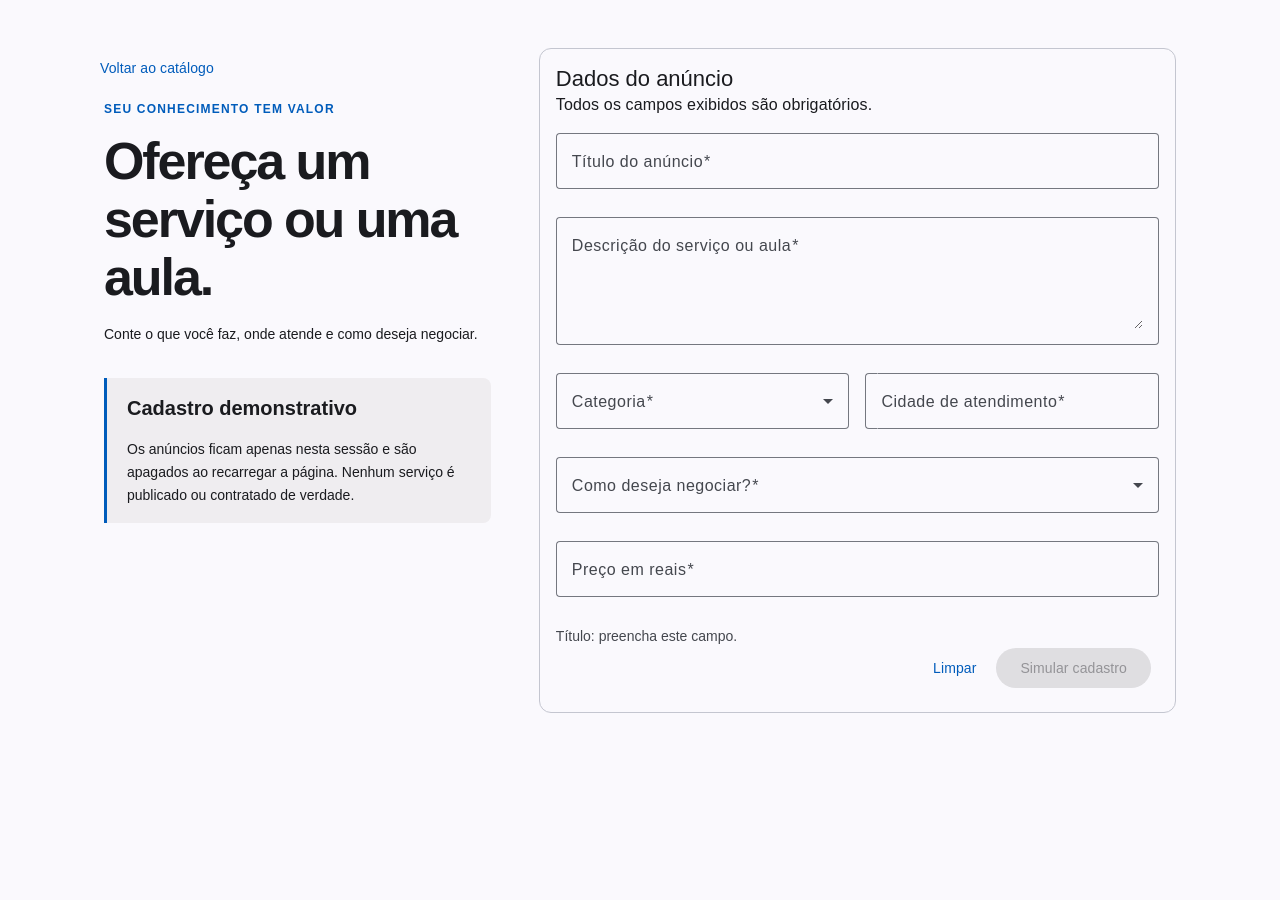
Test: CadastroAnuncioComponent › vincula campos, cria a simulação e limpa campos e mensagem
Type "Aulas de violão" into the field named "titulo" at (857, 161), box [572, 149, 1143, 173]
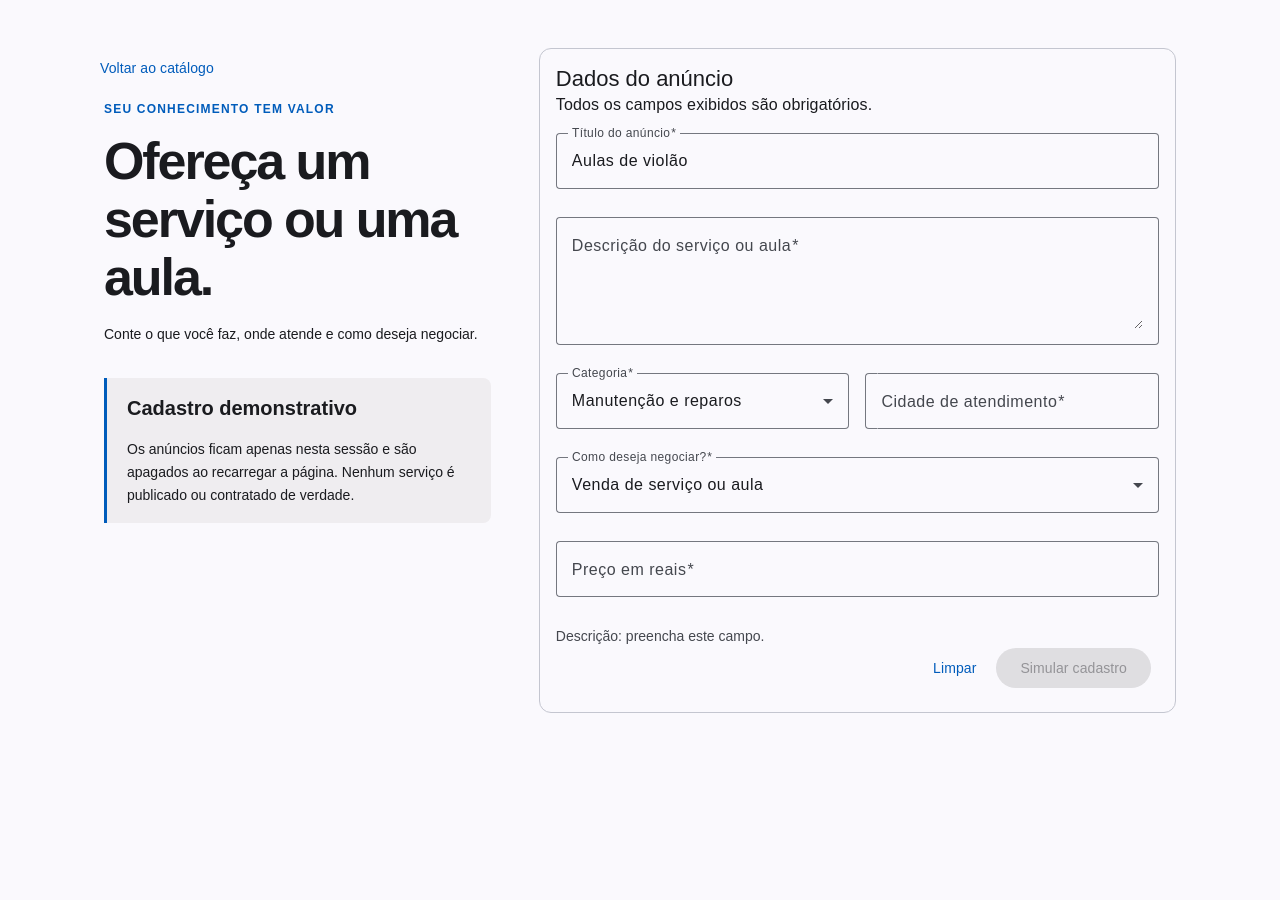
Type "Aulas para quem quer começar a tocar." into the text box labelled "Descrição do serviço ou aula" at (857, 281), box [572, 233, 1143, 329]
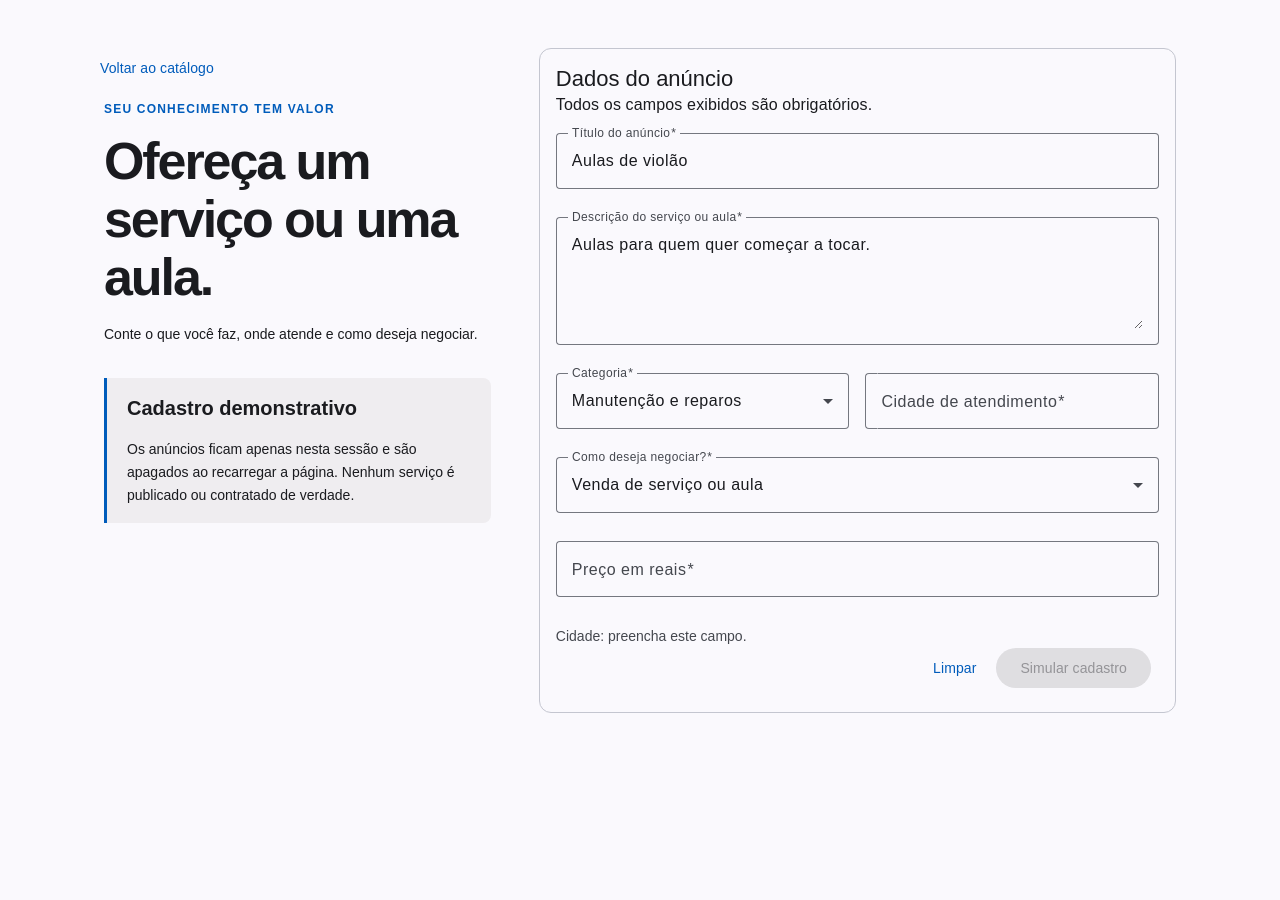
Type "Florianópolis" into the field labelled "Cidade de atendimento" at (1012, 401), box [881, 389, 1143, 413]
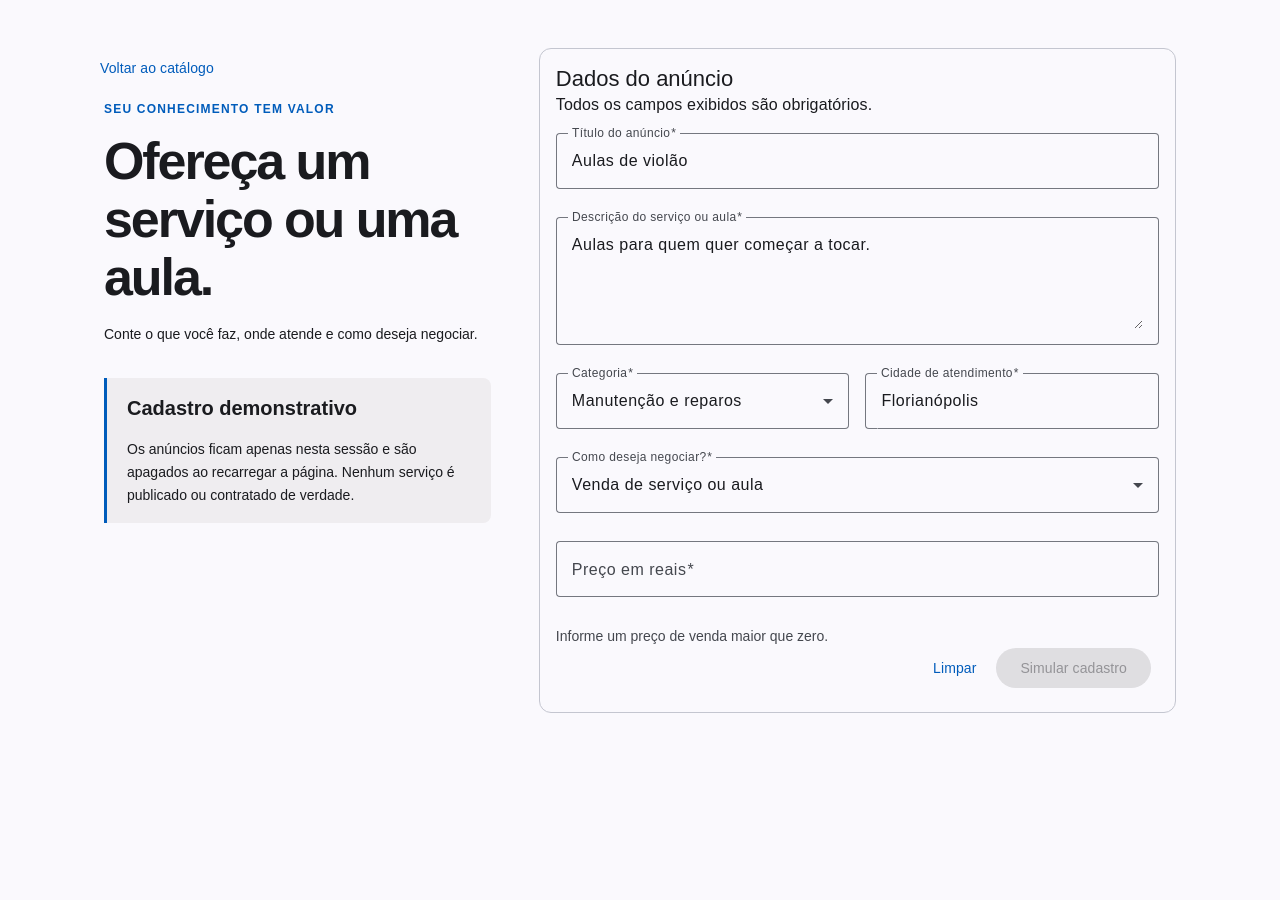
Type "90" into the number field labelled "Preço em reais" at (857, 569), box [572, 557, 1143, 581]
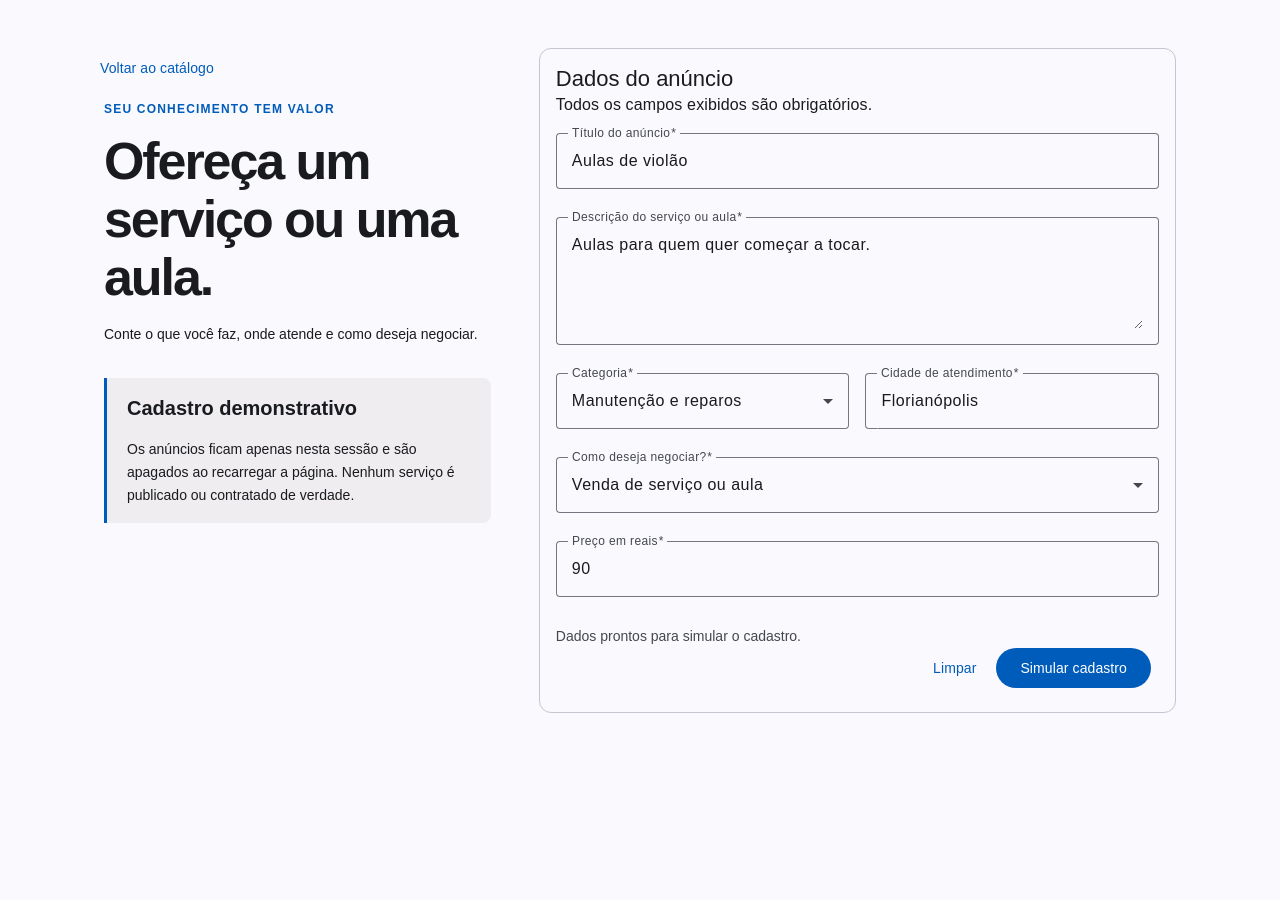
Now the submit button is enabled
Click the submit button at (1074, 668), box [996, 648, 1151, 688]
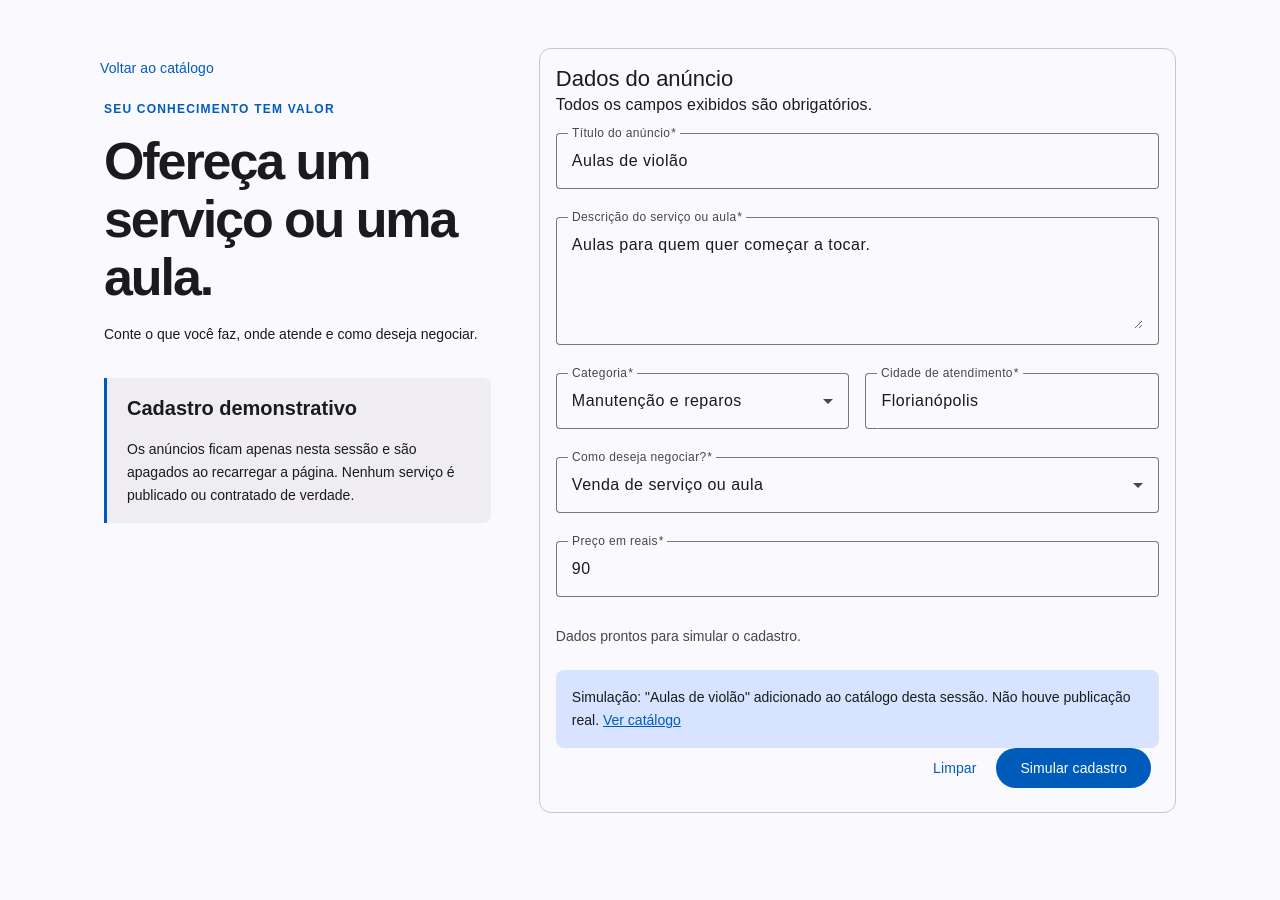
Now the message shows "Simulação", box [572, 689, 1130, 728]
Click the button with test id "limpar" at (955, 768), box [921, 748, 988, 788]
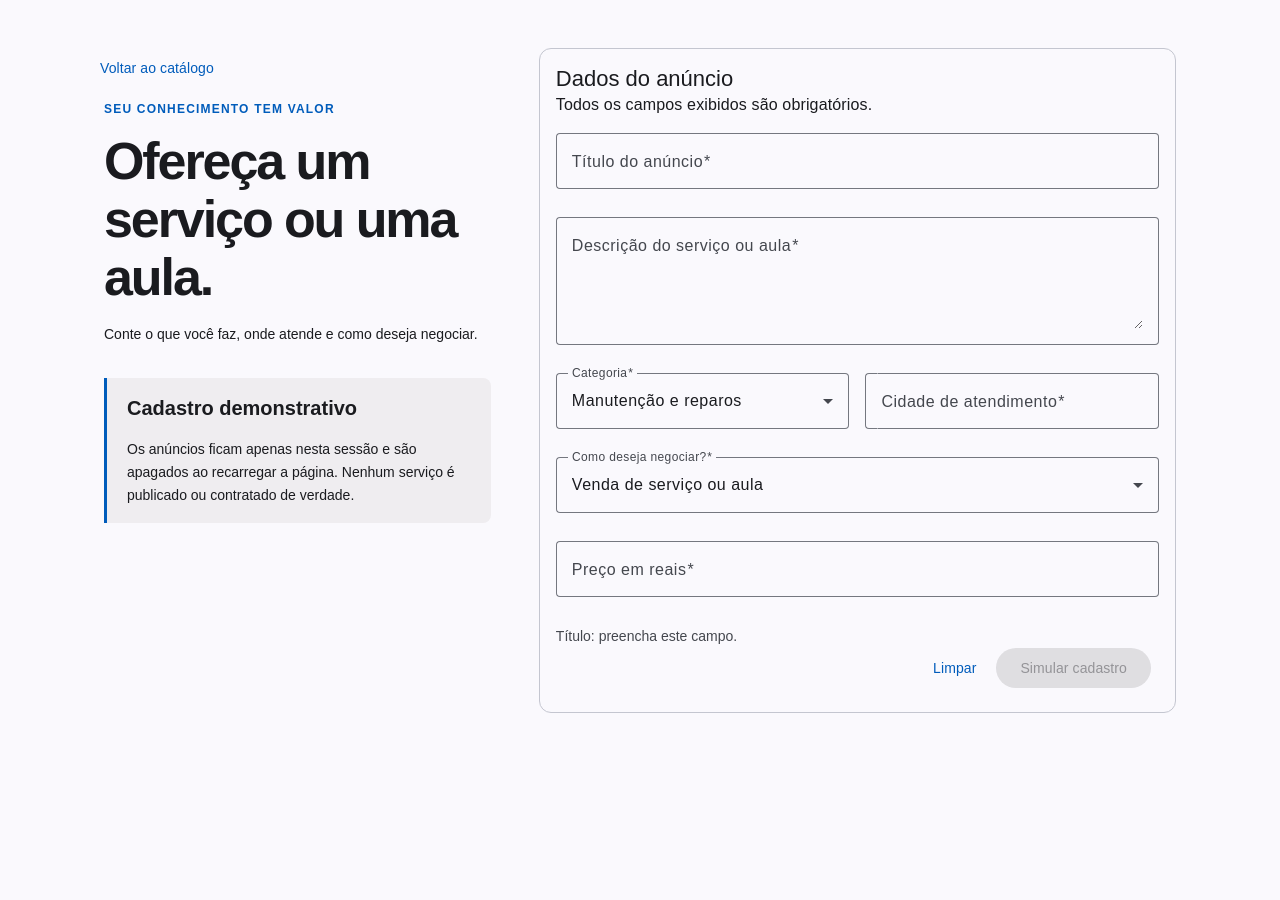
Now the field named "titulo" is empty, box [572, 149, 1143, 173]
Now the message is gone
Now the submit button is disabled, box [996, 648, 1151, 688]
